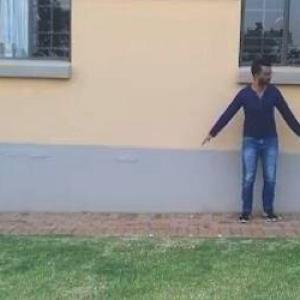land: (189, 50, 299, 245)
